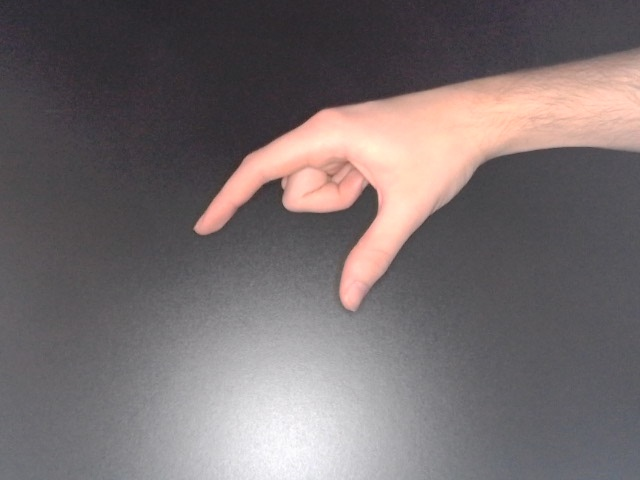q: (190, 74, 547, 319)
